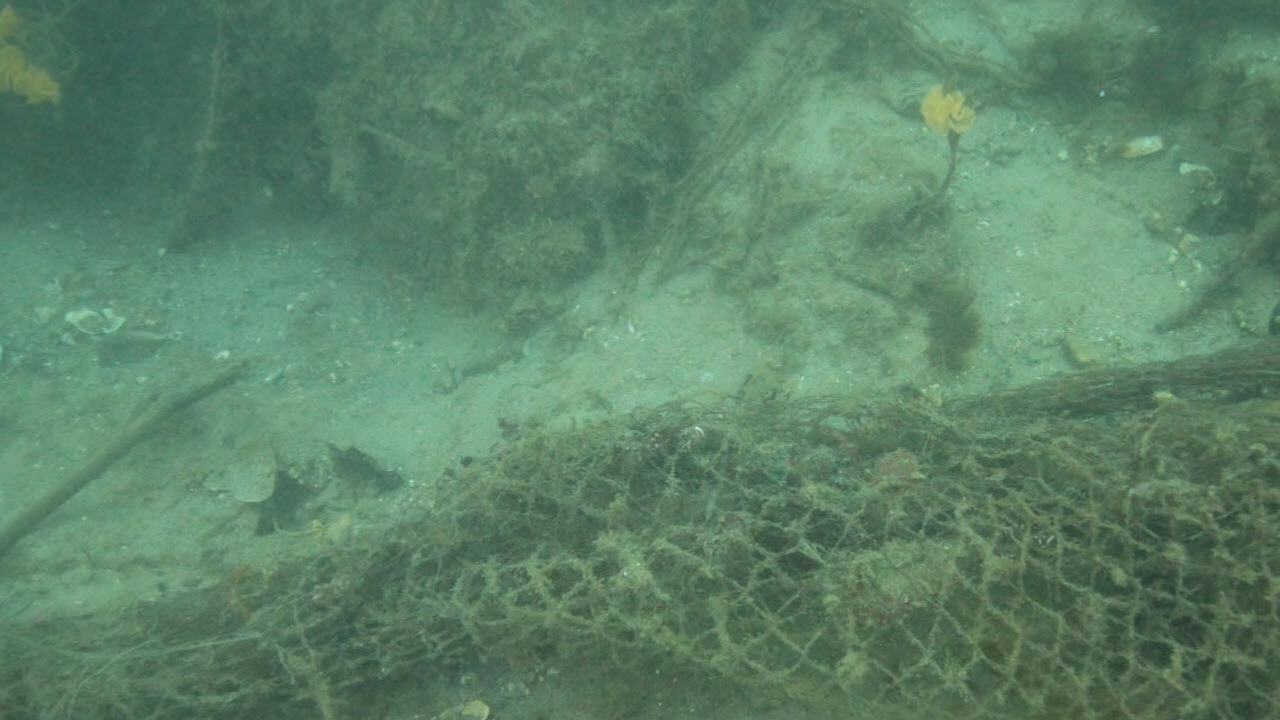fish net: (393, 400, 1280, 720)
